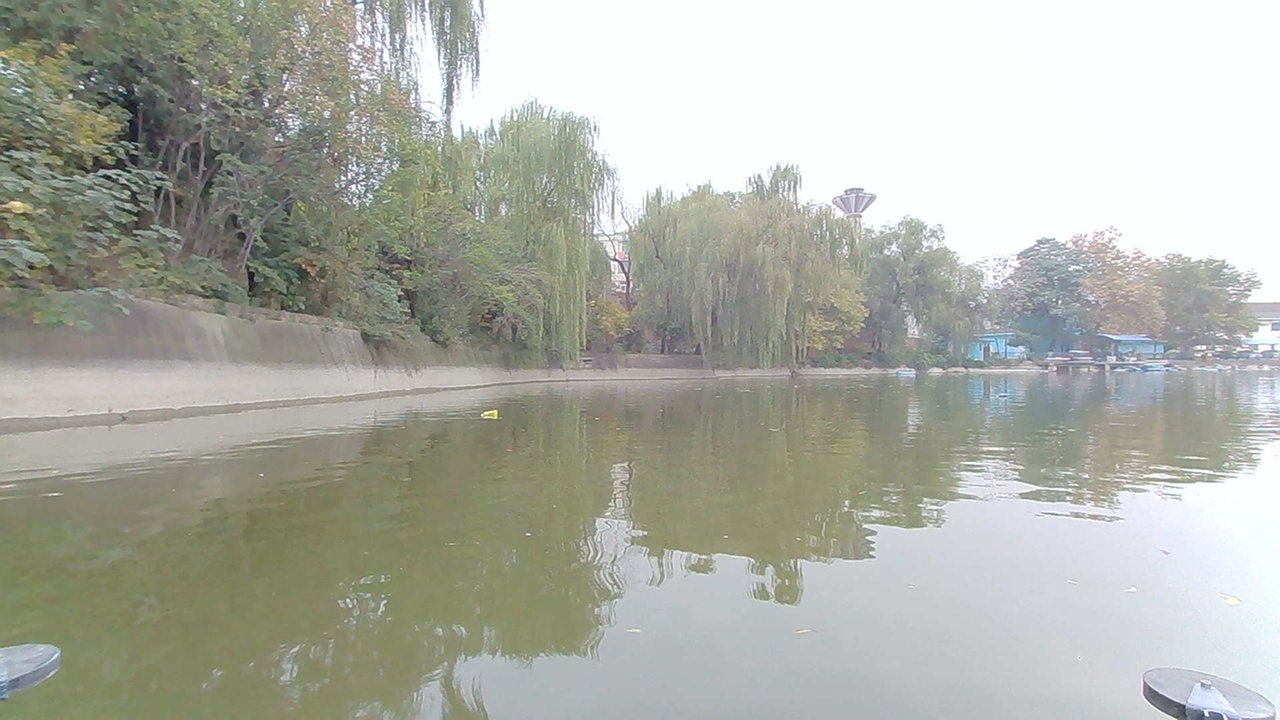bottle: (474, 405, 508, 428), (984, 390, 1013, 405)
